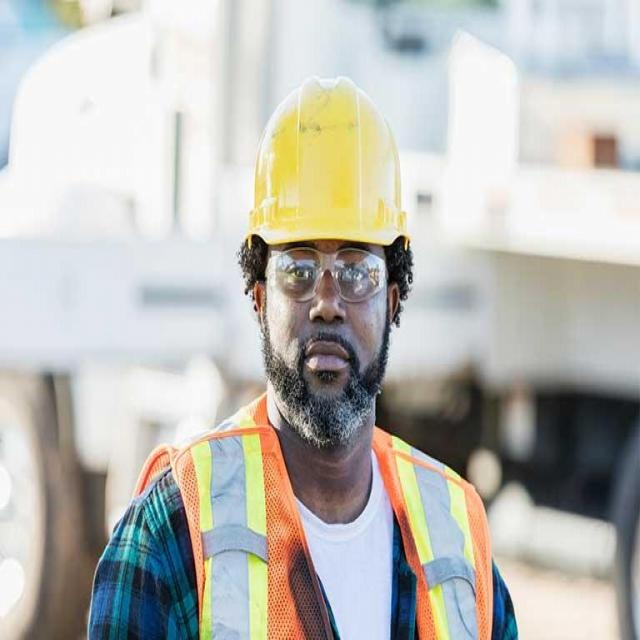Reflective-Jacket: (159, 403, 496, 640)
Safety-Helmet: (240, 70, 417, 254)
